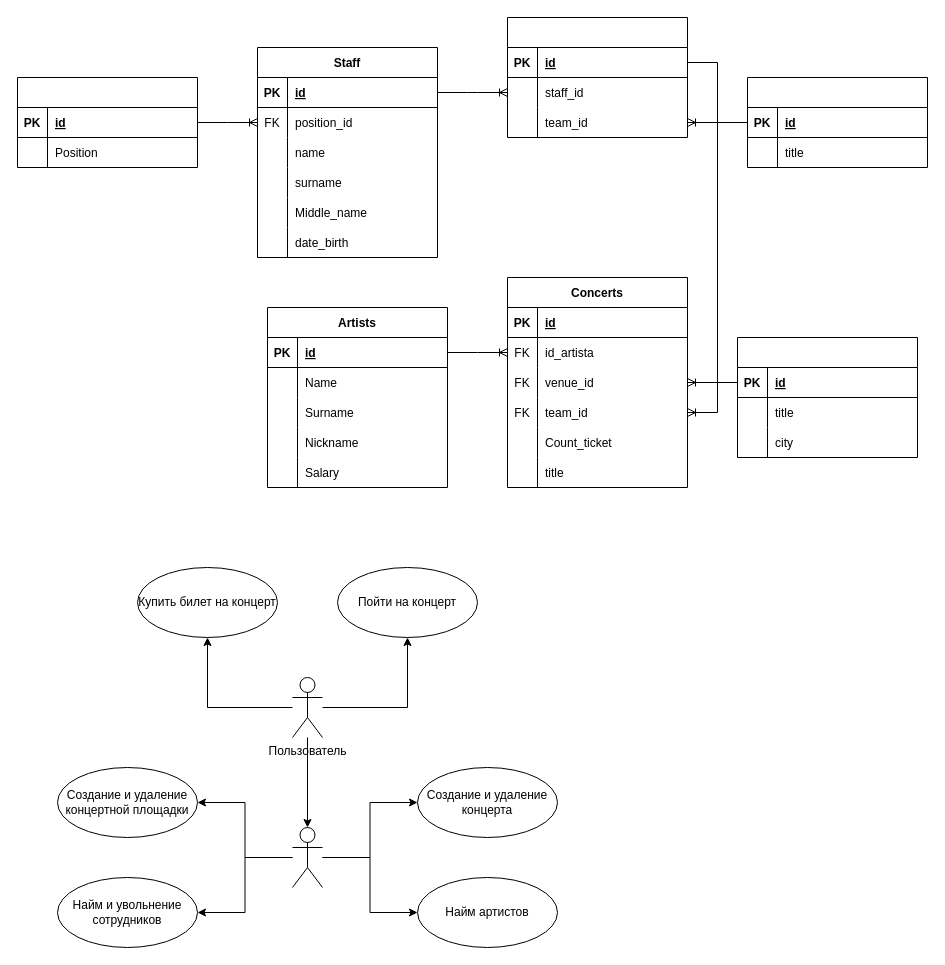
Some shapes in this 945 by 965 pixel diagram are drawn without their labels. The box of each missing label's shape, as (x1, y1, x2, y2) in pixels:
Concert venues: (736, 336, 918, 458)
Positions: (16, 76, 198, 168)
teams: (746, 76, 928, 168)
teams-staff: (506, 16, 688, 138)
Директор: (292, 826, 322, 888)
